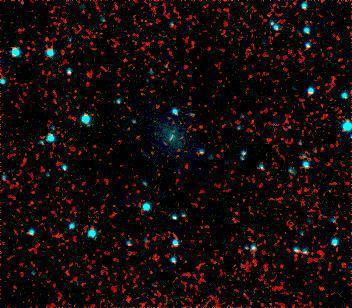star: (153, 117, 183, 147)
